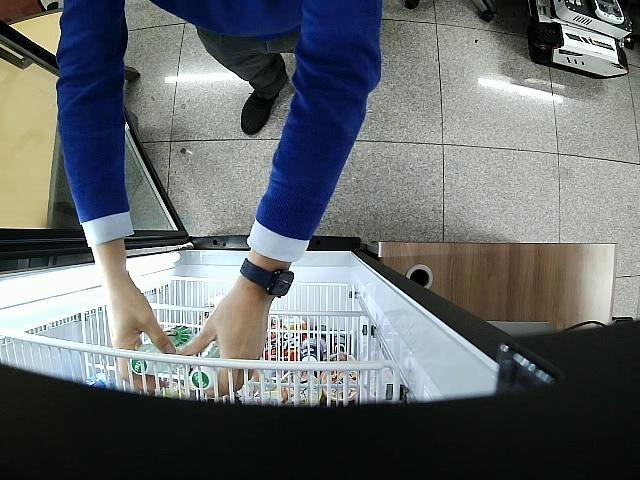18_trevi: (132, 326, 194, 375), (190, 344, 220, 388)
